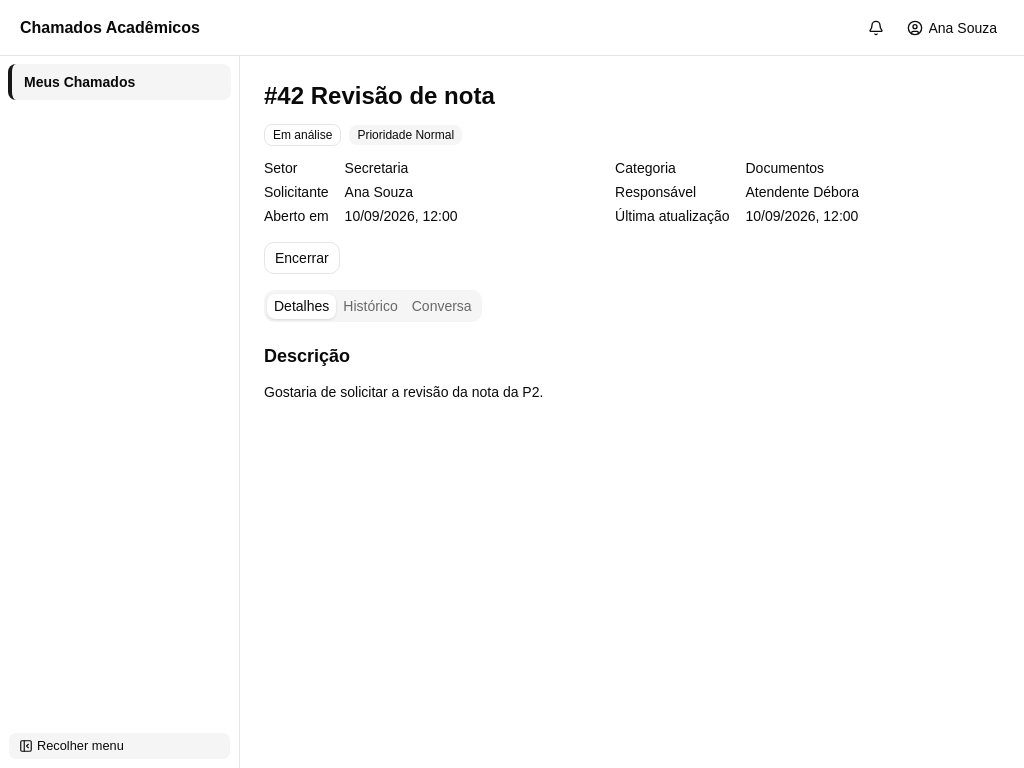
Test case: MessageComposer (Tela 5, BR2.1, BR5.2, BR5.3, BR5.7) › shows the translated refusal of a closed ticket and disables the field (CT11, BR5.7)
Click the tab with test id "ticket-tabs-conversation-tab".
click(442, 306)  # box [405,294,479,318]
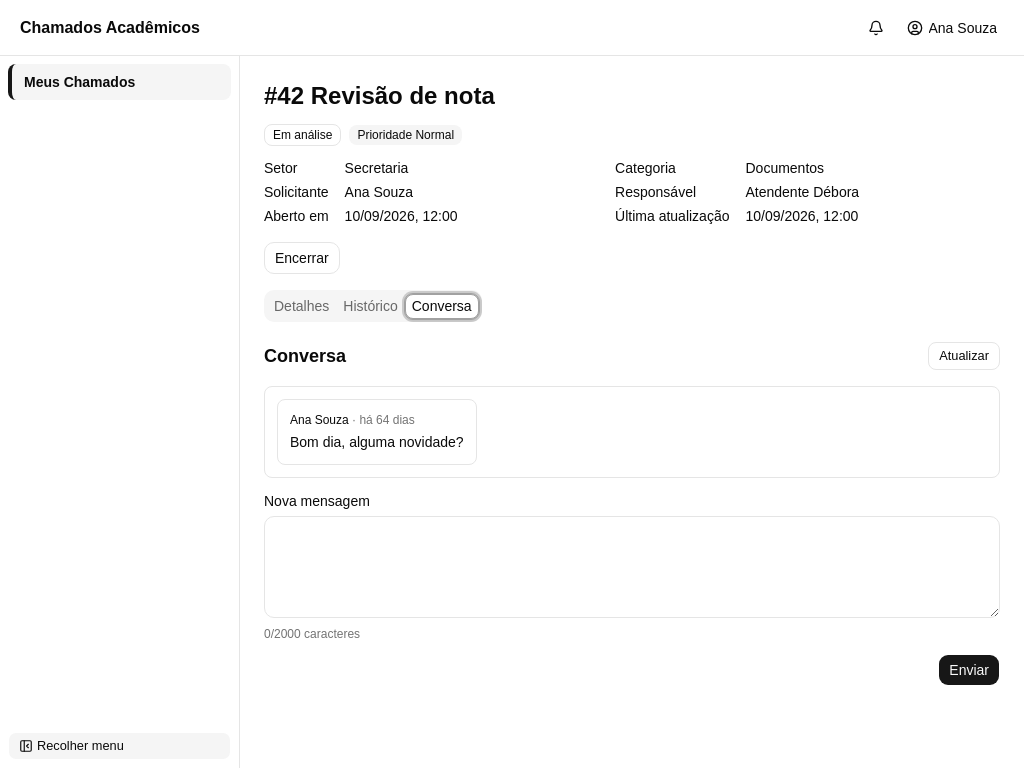
Check: the form with test id "message-composer" is shown, box [264,494,1000,686]
Type "Ainda tenho uma dúvida." into the text box with test id "message-composer-body-input".
click(632, 567); type("Ainda tenho uma dúvida.")  # box [264,516,1000,618]
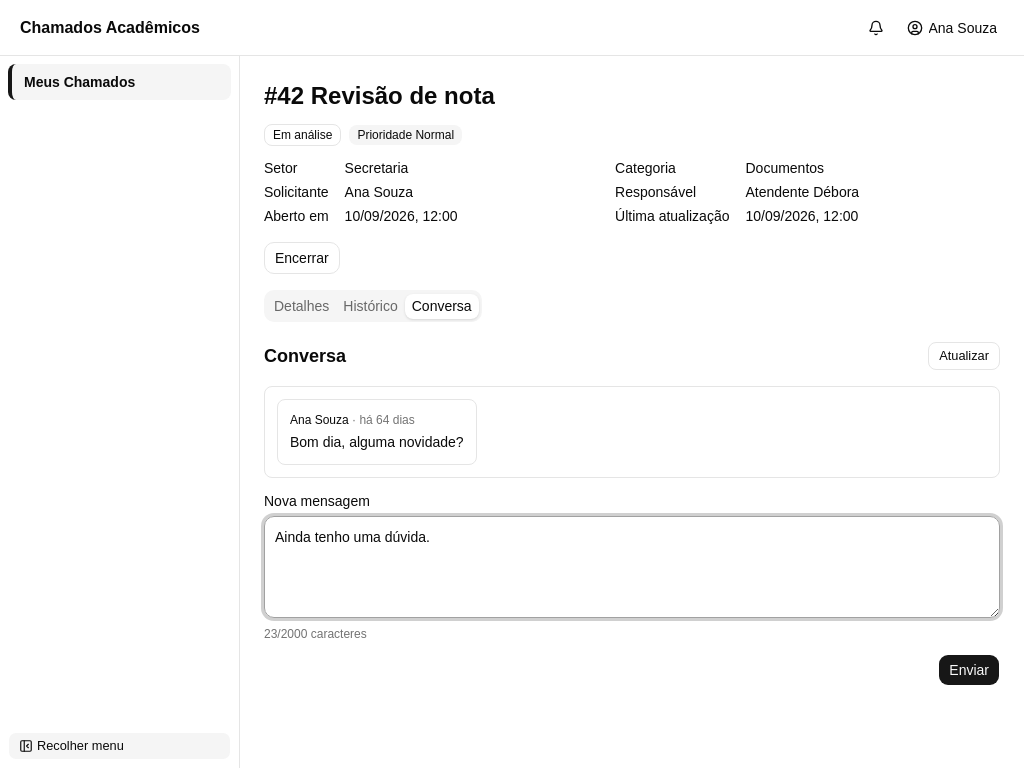
Click the button with test id "message-composer-submit-button".
click(969, 670)  # box [938,654,1000,686]
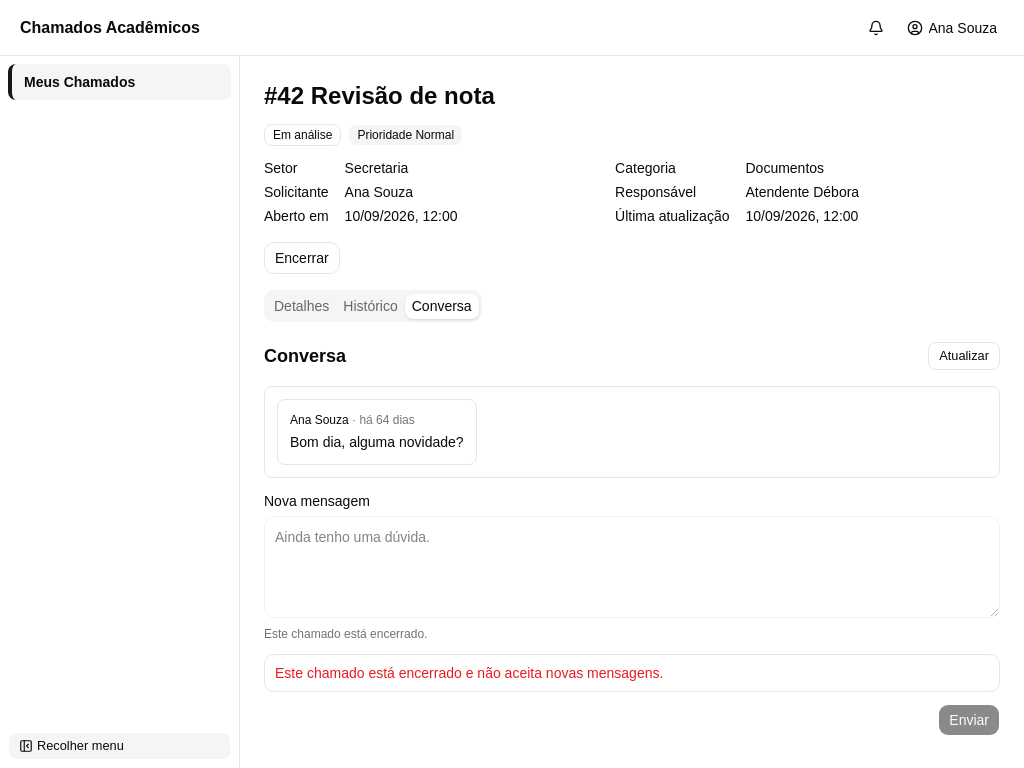
Check: the message with test id "message-composer-error-alert" reads "Este chamado está encerrado e não aceita novas mensagens.", box [275,665,663,681]
Check: the text box with test id "message-composer-body-input" is disabled, box [264,516,1000,618]
Check: the button with test id "message-composer-submit-button" is disabled, box [938,704,1000,736]
